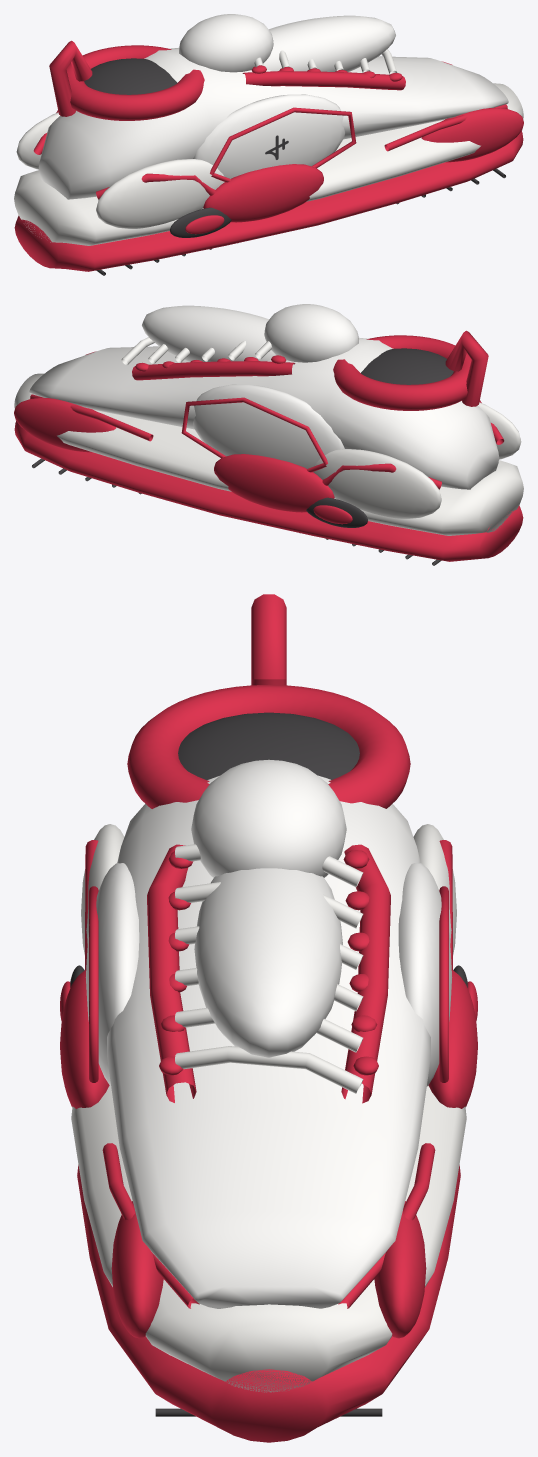
File: sneaker-white.glb
3 renders of one model, top to bottom at view 1: azimuth 30°, elevation 25°; view 2: azimuth 150°, elevation 25°; view 3: azimuth 270°, elevation 25°, orthographic. The views are drawn at different scales.
Visible parts, largest first — view 1: upper volume, deep traction outsole, full volume midsole, quarter leather panel, heel stabilizer, tongue, padded crimson collar, arch support, tongue crest, forefoot guard, ankle cavity, left eyestay (+7 smaller); view 2: upper volume, deep traction outsole, full volume midsole, quarter leather panel.001, heel stabilizer.001, tongue, padded crimson collar, arch support.001, tongue crest, forefoot guard.001, ankle cavity, right eyestay (+8 smaller); view 3: upper volume, full volume midsole, tongue, deep traction outsole, padded crimson collar, tongue crest, ankle cavity, quarter leather panel.001, quarter leather panel, left eyestay, right eyestay, forefoot guard (+14 smaller).
Boxes of the visible parts, left/top/right/bottom form: upper volume: left=38, top=47, right=508, bottom=199; deep traction outsole: left=14, top=131, right=523, bottom=271; full volume midsole: left=14, top=83, right=523, bottom=245; quarter leather panel: left=193, top=94, right=344, bottom=178; heel stabilizer: left=96, top=159, right=224, bottom=228; tongue: left=263, top=15, right=395, bottom=72; padded crimson collar: left=66, top=45, right=204, bottom=120; arch support: left=203, top=164, right=323, bottom=222; tongue crest: left=179, top=14, right=273, bottom=72; forefoot guard: left=421, top=107, right=523, bottom=162; ankle cavity: left=84, top=58, right=177, bottom=94; left eyestay: left=242, top=71, right=405, bottom=90; upper volume: left=29, top=337, right=499, bottom=489; deep traction outsole: left=14, top=421, right=523, bottom=561; full volume midsole: left=14, top=373, right=523, bottom=535; quarter leather panel.001: left=193, top=384, right=344, bottom=468; heel stabilizer.001: left=313, top=449, right=441, bottom=518; tongue: left=142, top=305, right=275, bottom=362; padded crimson collar: left=333, top=335, right=471, bottom=410; arch support.001: left=214, top=454, right=334, bottom=512; tongue crest: left=264, top=304, right=358, bottom=362; forefoot guard.001: left=14, top=397, right=115, bottom=452; ankle cavity: left=361, top=348, right=453, bottom=384; right eyestay: left=132, top=361, right=295, bottom=380; upper volume: left=107, top=775, right=430, bottom=1308; full volume midsole: left=71, top=1085, right=466, bottom=1392; tongue: left=194, top=868, right=342, bottom=1057; deep traction outsole: left=77, top=1165, right=460, bottom=1442; padded crimson collar: left=127, top=684, right=410, bottom=808; tongue crest: left=191, top=759, right=346, bottom=877; ankle cavity: left=178, top=712, right=359, bottom=780; quarter leather panel.001: left=398, top=863, right=452, bottom=1086; quarter leather panel: left=85, top=863, right=139, bottom=1086; left eyestay: left=147, top=844, right=196, bottom=1102; right eyestay: left=341, top=844, right=390, bottom=1103; forefoot guard: left=111, top=1201, right=163, bottom=1338.
Bounding box in the file's own units: 3.36 × 1.46 × 1.29.
9 materials, 1 textured.
